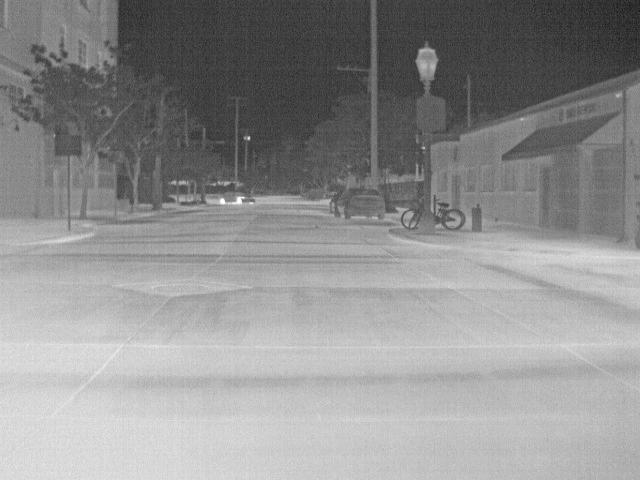car: (334, 186, 386, 221), (220, 192, 258, 204), (329, 195, 337, 216)
